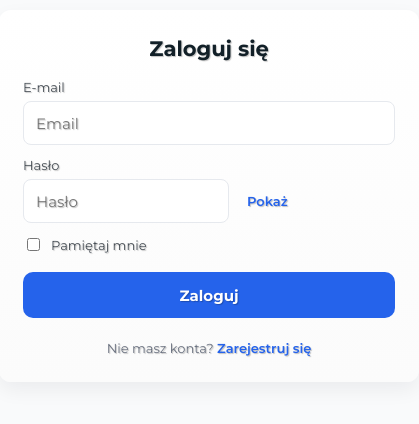
Komponent LoginPage › wysyła żądanie logowania przy poprawnych danych
In the field labelled "E-mail": (209, 123) 23,101 -> 395,145, type "test@example.com"
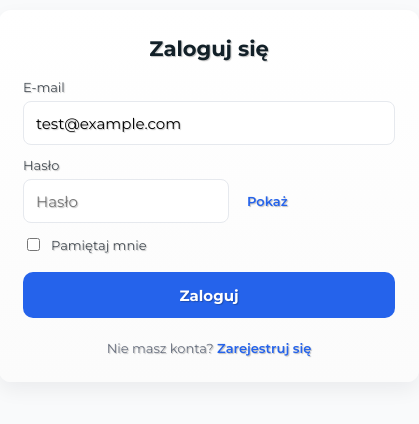
In the password field named "Pole hasło": (126, 201) 23,179 -> 229,223, type "password123"
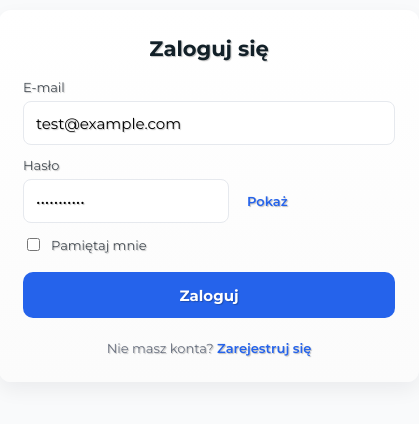
// Kliknij przycisk Zaloguj
Click the button "Zaloguj": (209, 295) 23,272 -> 395,318
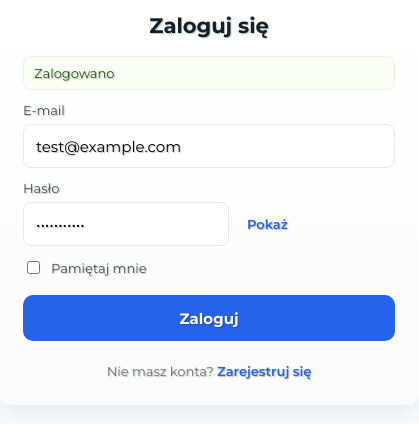
Check: the text "Zalogowano" is shown, box 23,56 -> 395,90
